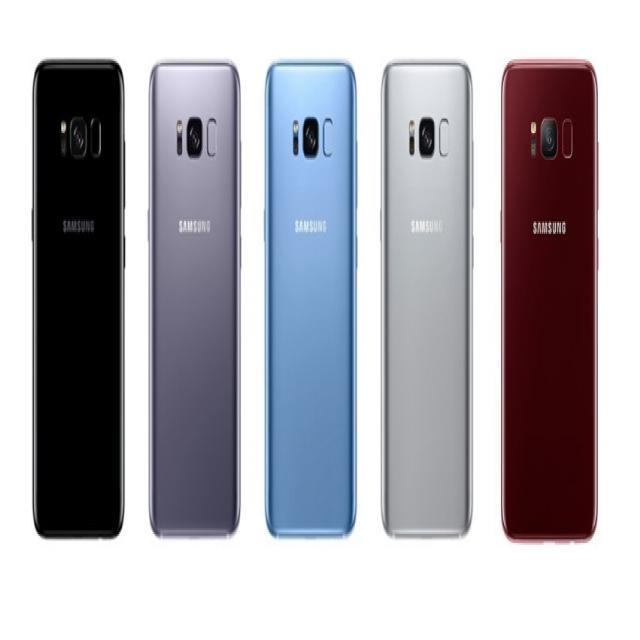phone: (498, 56, 600, 546), (29, 56, 128, 542), (378, 57, 476, 543), (262, 57, 356, 540), (148, 59, 242, 540)
